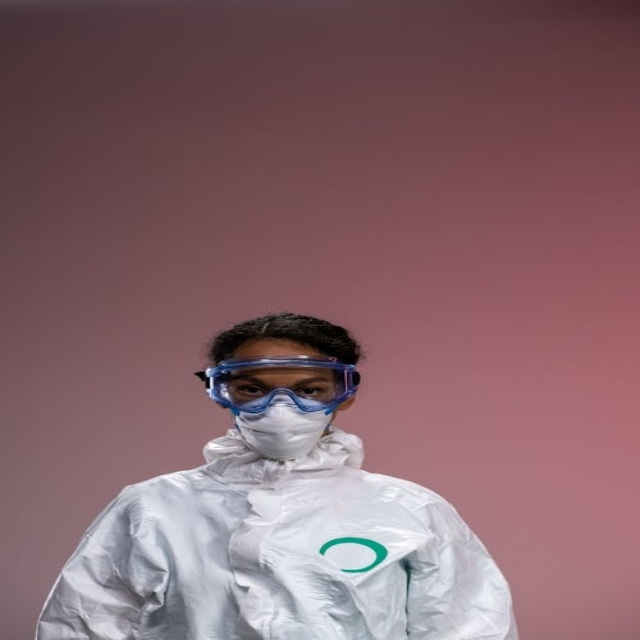Gafas: (198, 357, 361, 415)
Mascara: (227, 388, 341, 460)
